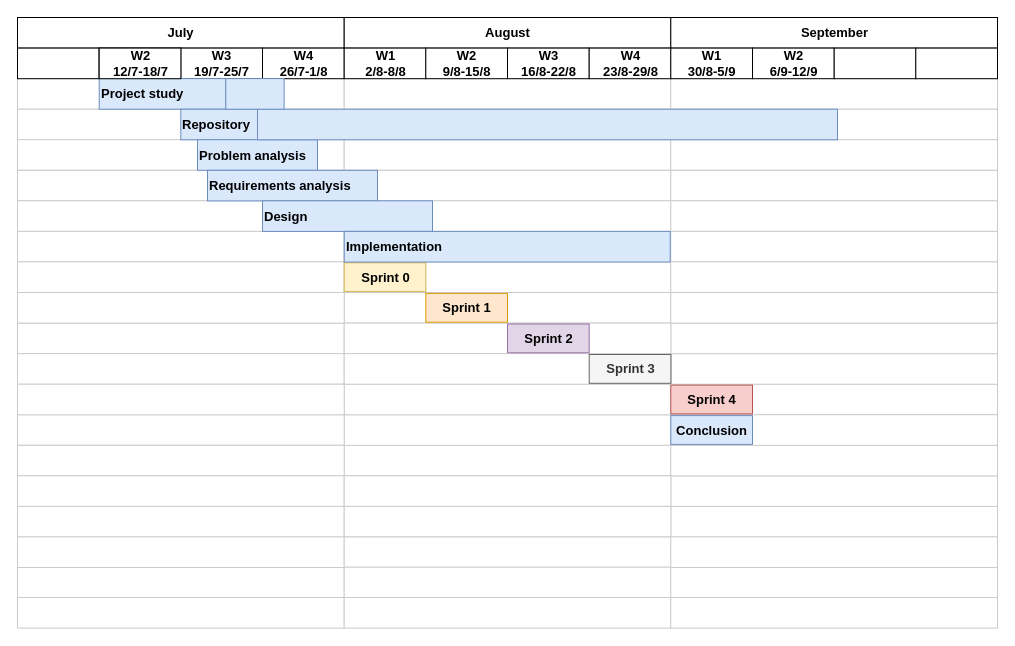
Some shapes in this 1015 by 646 pixel diagram are drawn without their labels. Each missing label, with the box of its shape:
Proposal: (225, 78, 284, 109)
Report: (256, 108, 838, 140)
